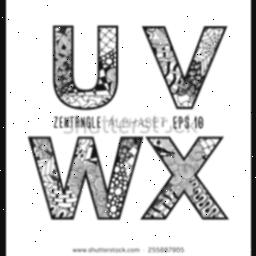u: (45, 18, 123, 112)
v: (138, 22, 230, 114)
w: (24, 132, 142, 222)
x: (143, 134, 229, 224)
